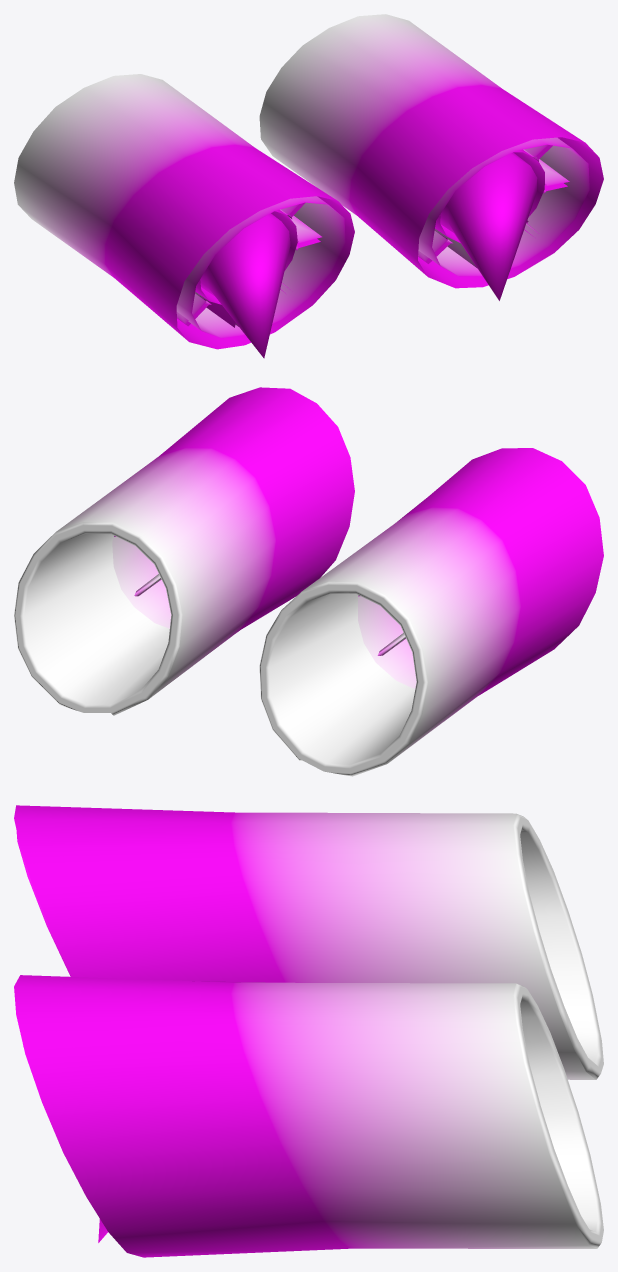
The model's file is Car_Ford_GT_2017_Exhausts_SetD.fbx.
3 views of the same model, one above another, from view 1: azimuth 30°, elevation 25°; view 2: azimuth 150°, elevation 25°; view 3: azimuth 270°, elevation 25° (orthographic). The views are drawn at different scales.
Parts seen in each view (by area): view 1: Exhausts 6; view 2: Exhausts 6; view 3: Exhausts 6.
Part boxes in pixels (<box>): Exhausts 6: <box>14,14,603,358</box>; Exhausts 6: <box>14,387,603,776</box>; Exhausts 6: <box>14,805,603,1257</box>.
Size of the model in its own units: 0.34 by 0.1414 by 0.2913.
